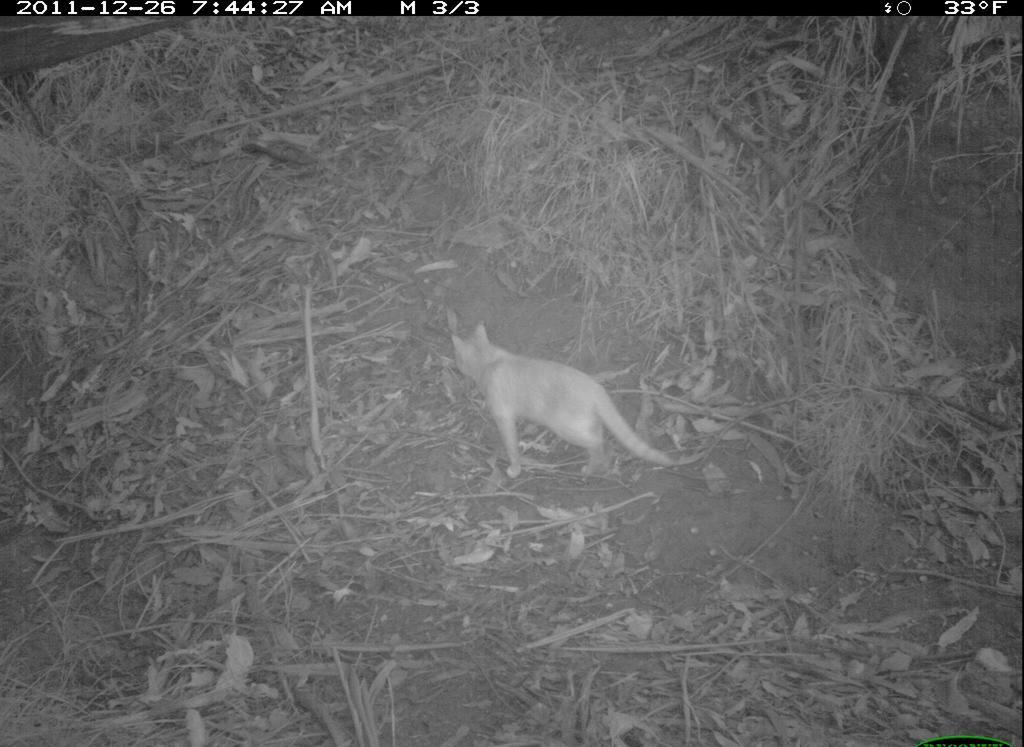cat: (437, 319, 693, 500)
